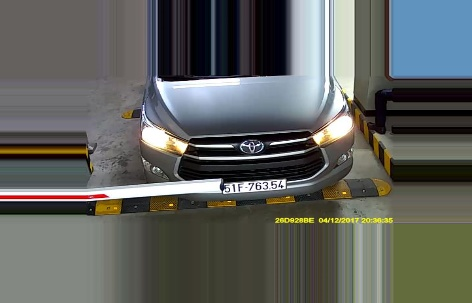plate: (219, 176, 289, 193)
